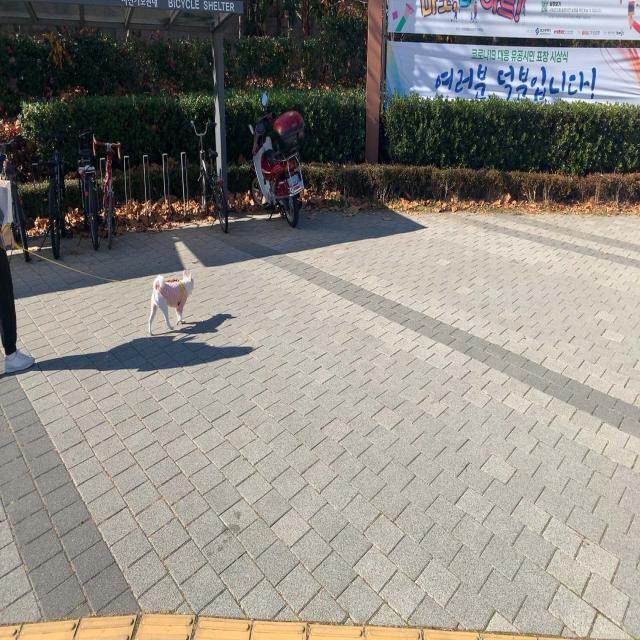Leashed_Dog: (0, 198, 195, 336)
